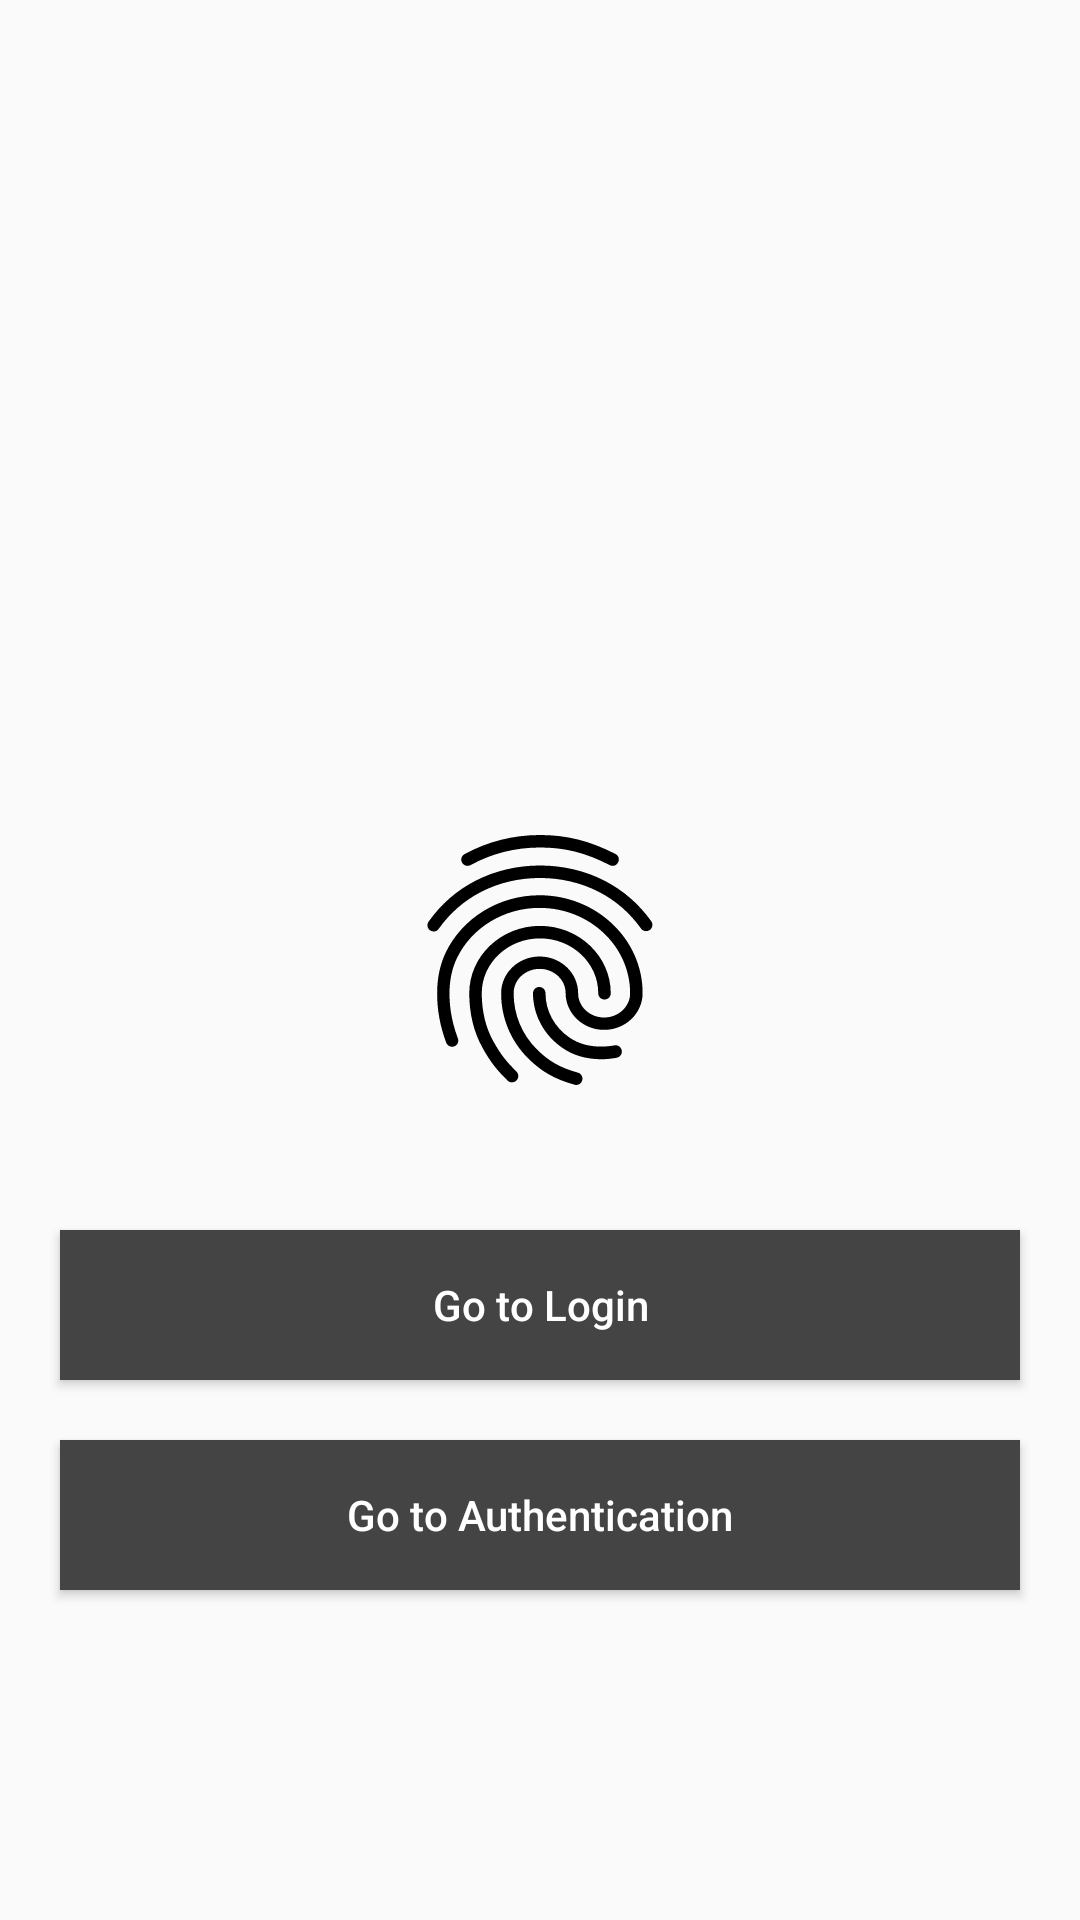

Icon bounding boxes for this 1080 × 1920 phone screenshot, format (x1, y1, x2, y2):
fingerprint: (427, 835, 653, 1085)
